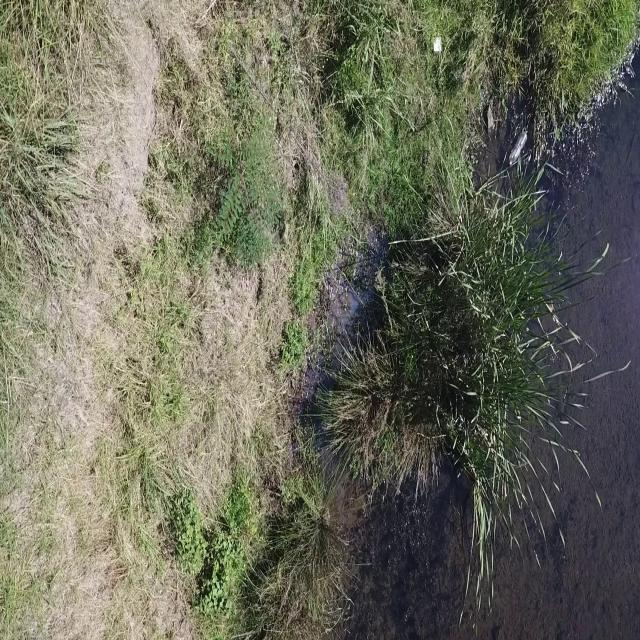Mysore-Thorn-Weed: (217, 106, 282, 265)
